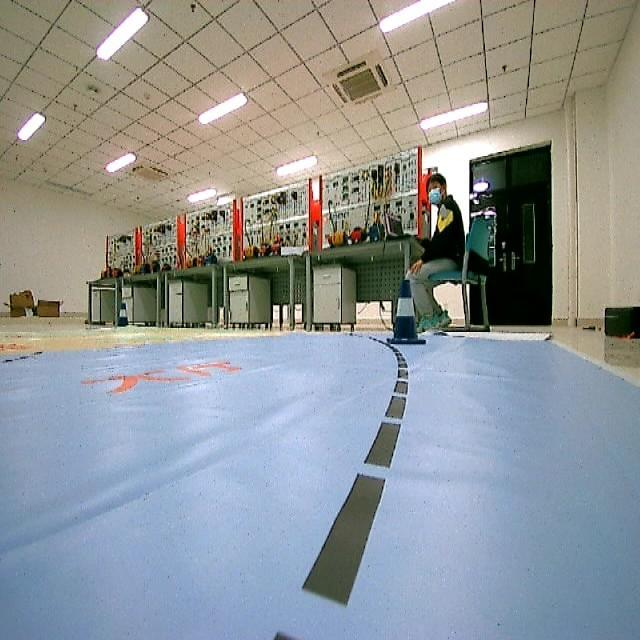obstacle: (392, 275, 424, 349)
